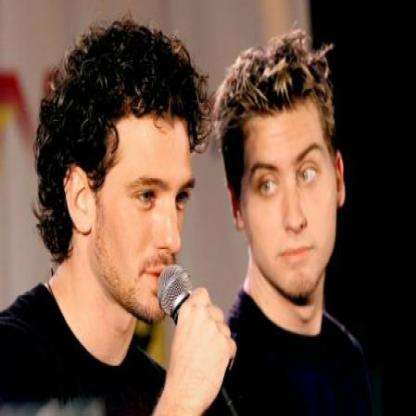face: (90, 47, 213, 328), (238, 55, 337, 302)
